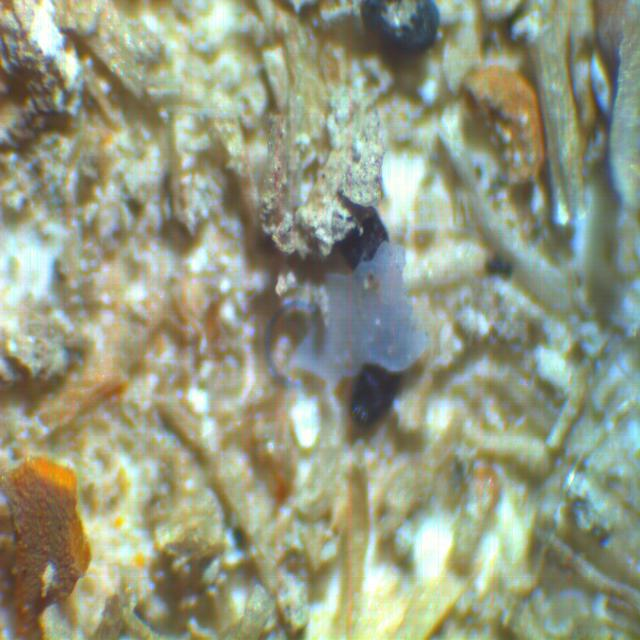microplastic: (278, 242, 432, 392)
